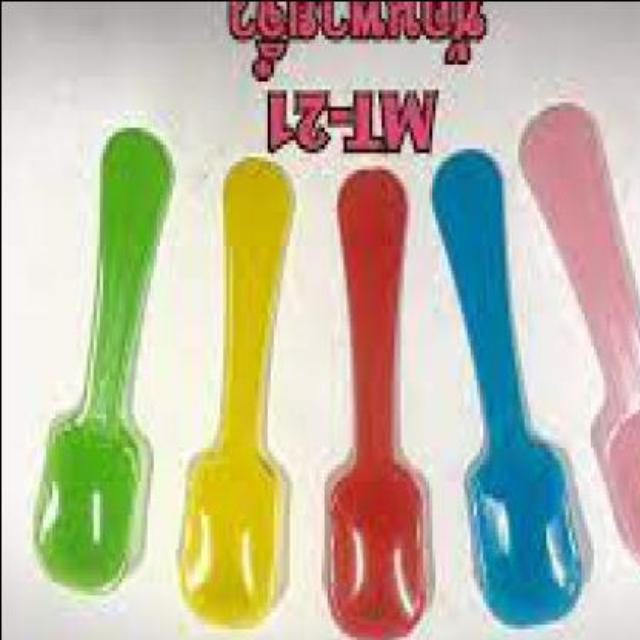plastic_cultery: (22, 97, 638, 638)
